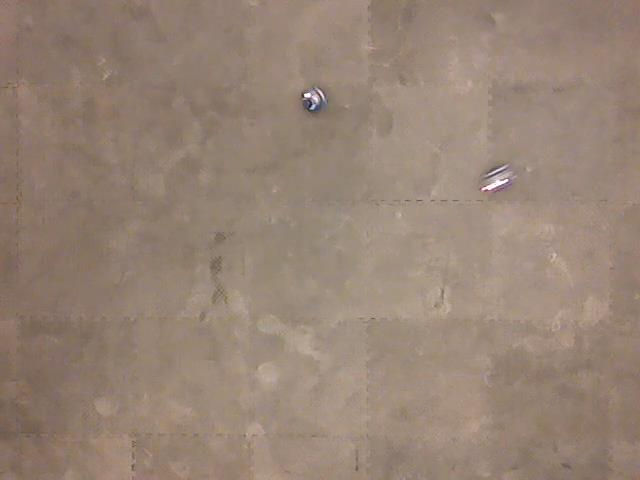Agent: (478, 161, 516, 195), (299, 85, 329, 114)
